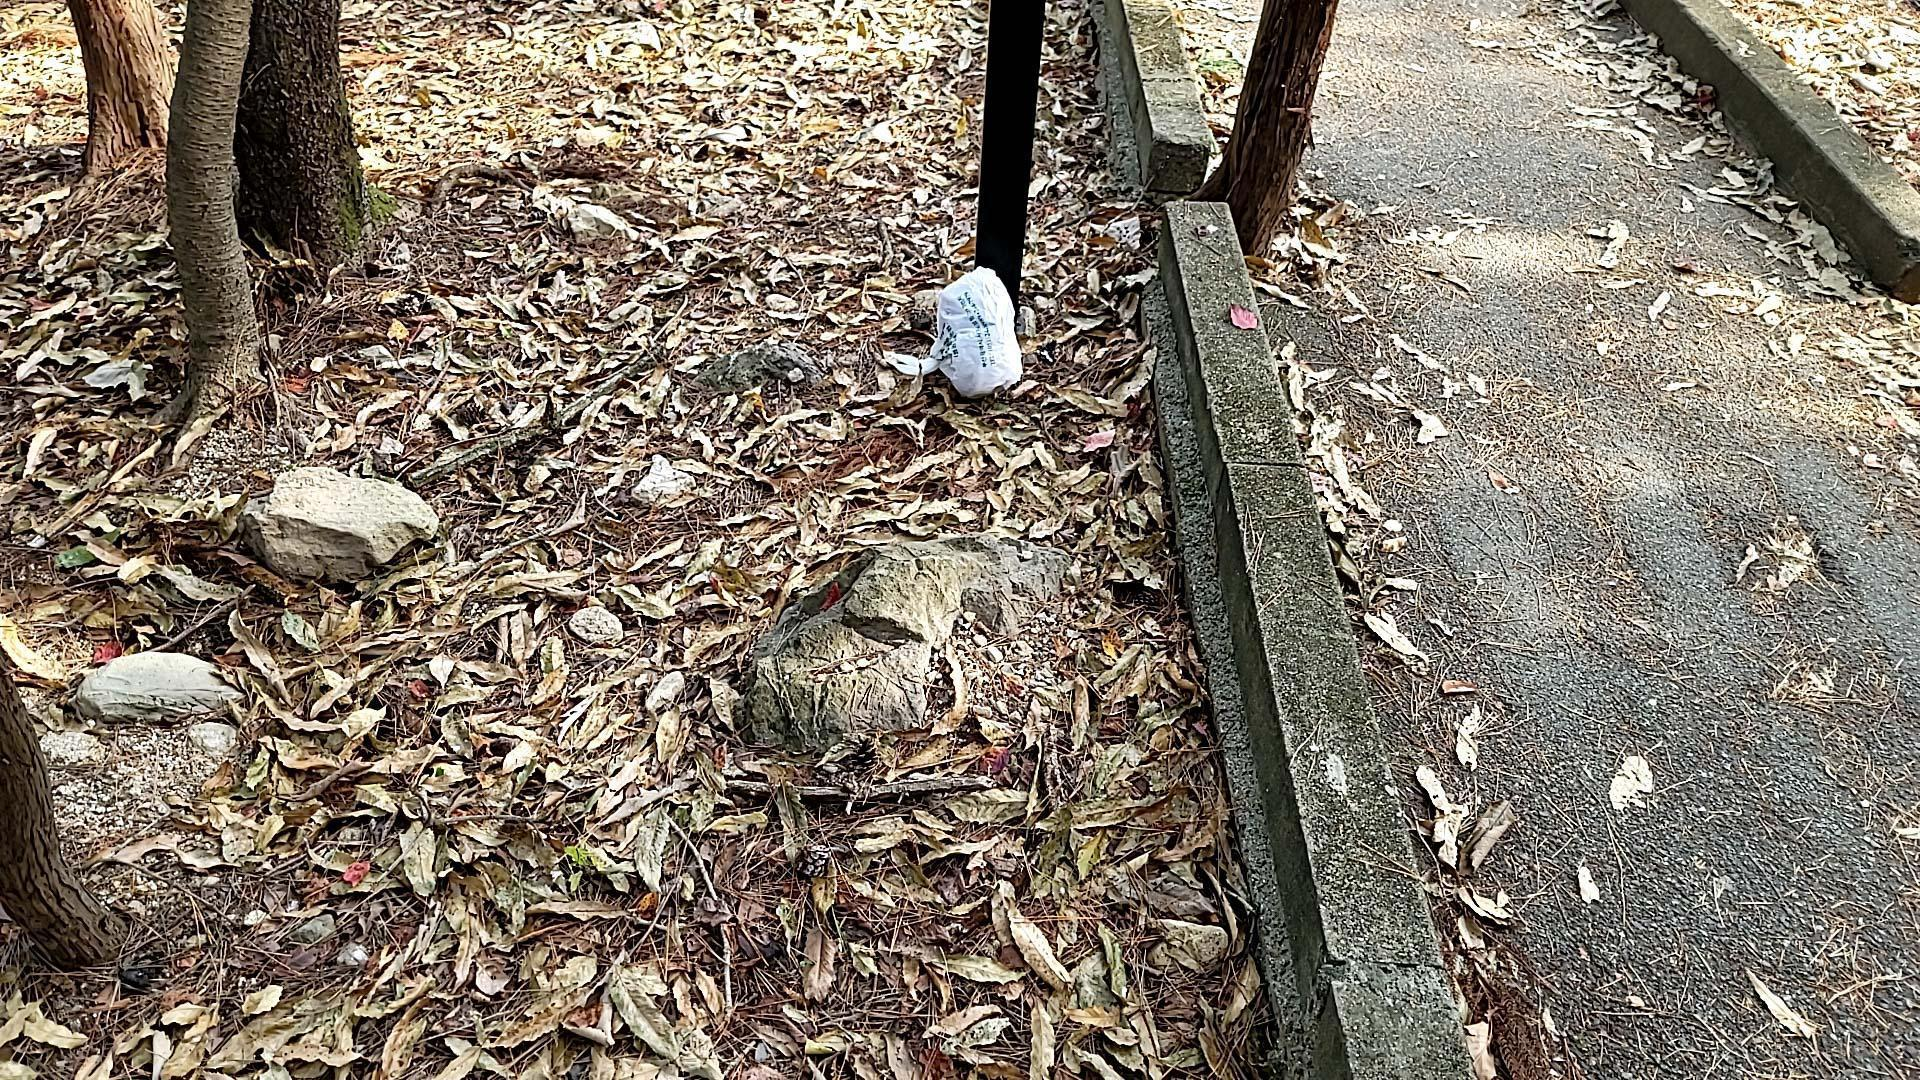white_bag: (881, 252, 1030, 413)
